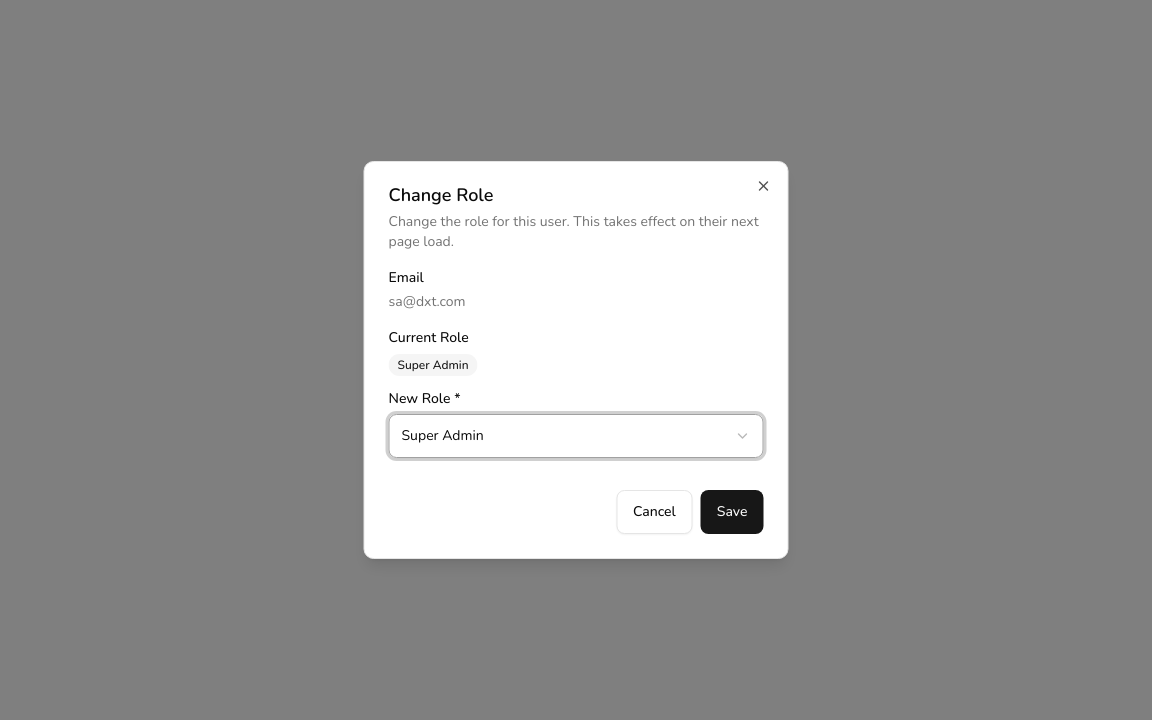
Test: EditRoleDialog › should show inline error for last super admin
Press the mouse on the dropdown with test id "role-select" at x=443, y=436, box top-left (388, 414), bottom-right (764, 458)
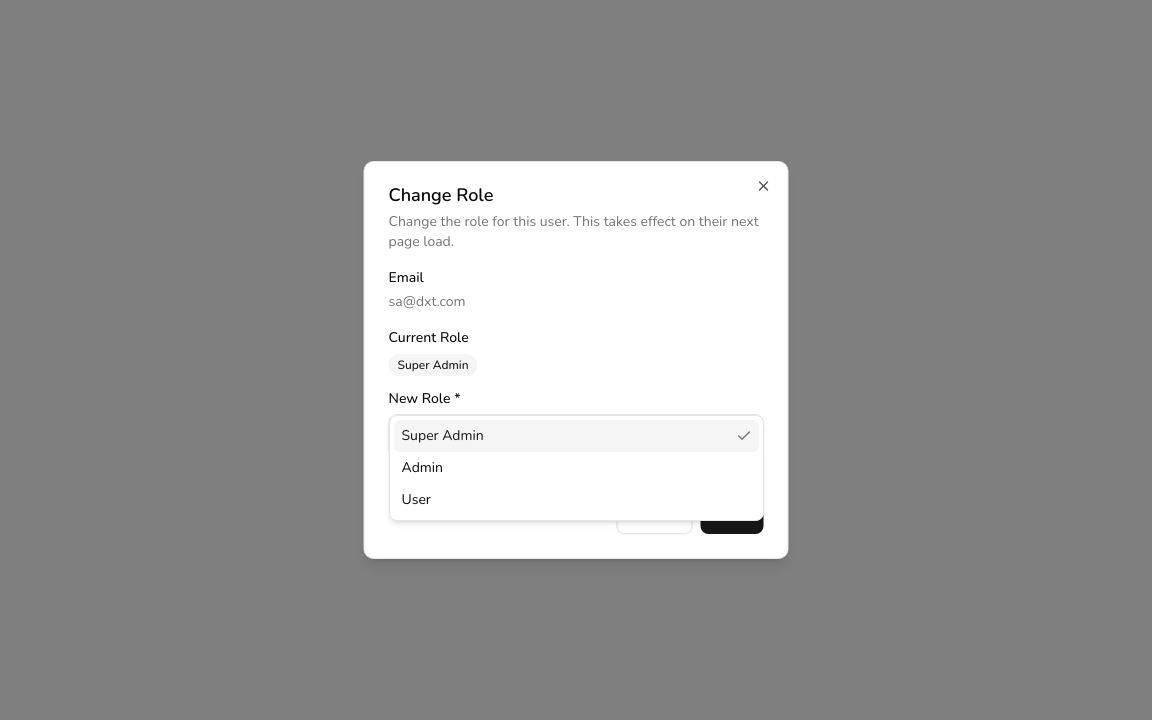
Expected: the option "Admin" is shown
Click the option "Admin" at x=422, y=468, box top-left (402, 458), bottom-right (443, 477)
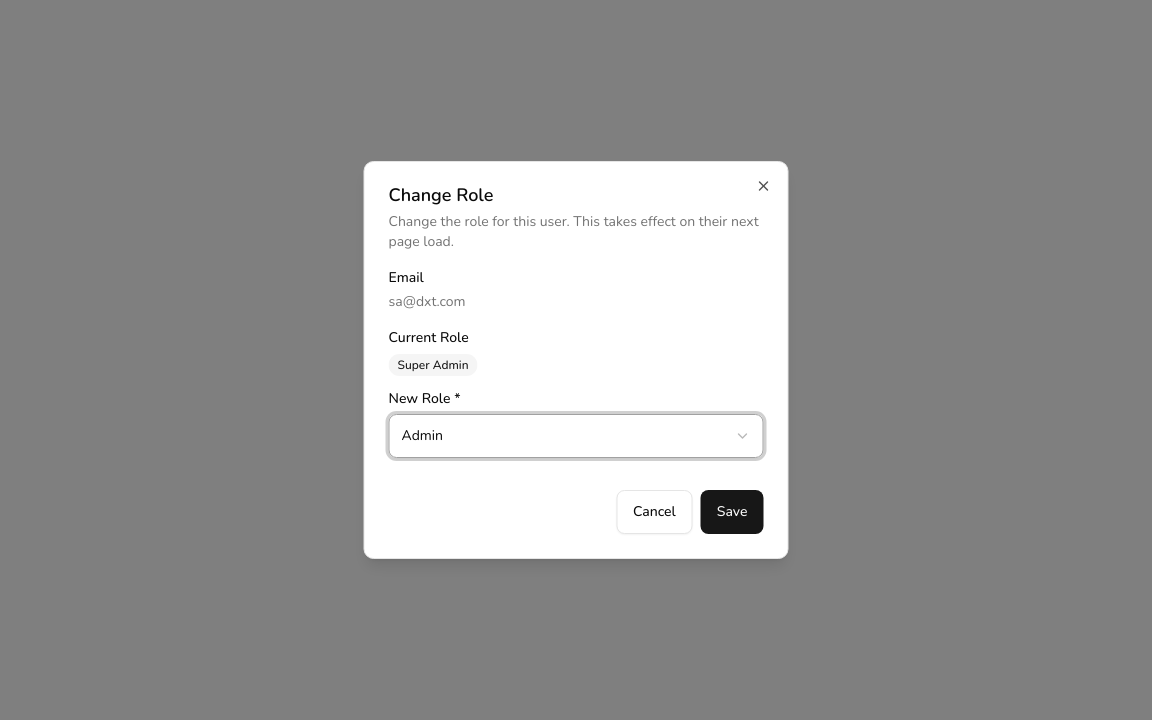
Click the button with test id "save-button" at x=732, y=512, box top-left (701, 490), bottom-right (764, 534)
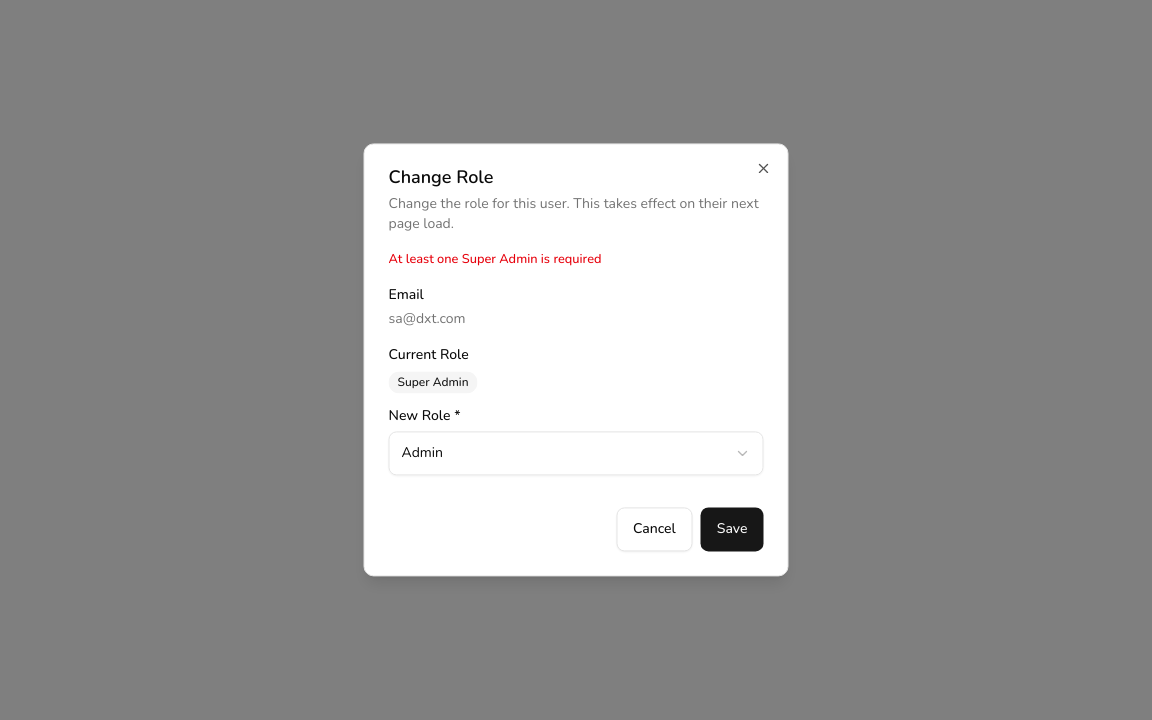
Expected: the dialog with test id "edit-role-dialog" is shown, top-left (364, 143), bottom-right (788, 577)
Expected: the text "At least one Super Admin is required" is shown, top-left (388, 250), bottom-right (602, 268)
